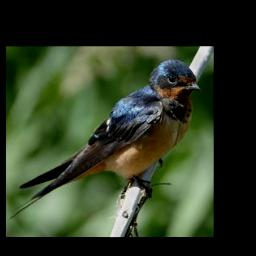Swallow: (8, 58, 202, 221)
